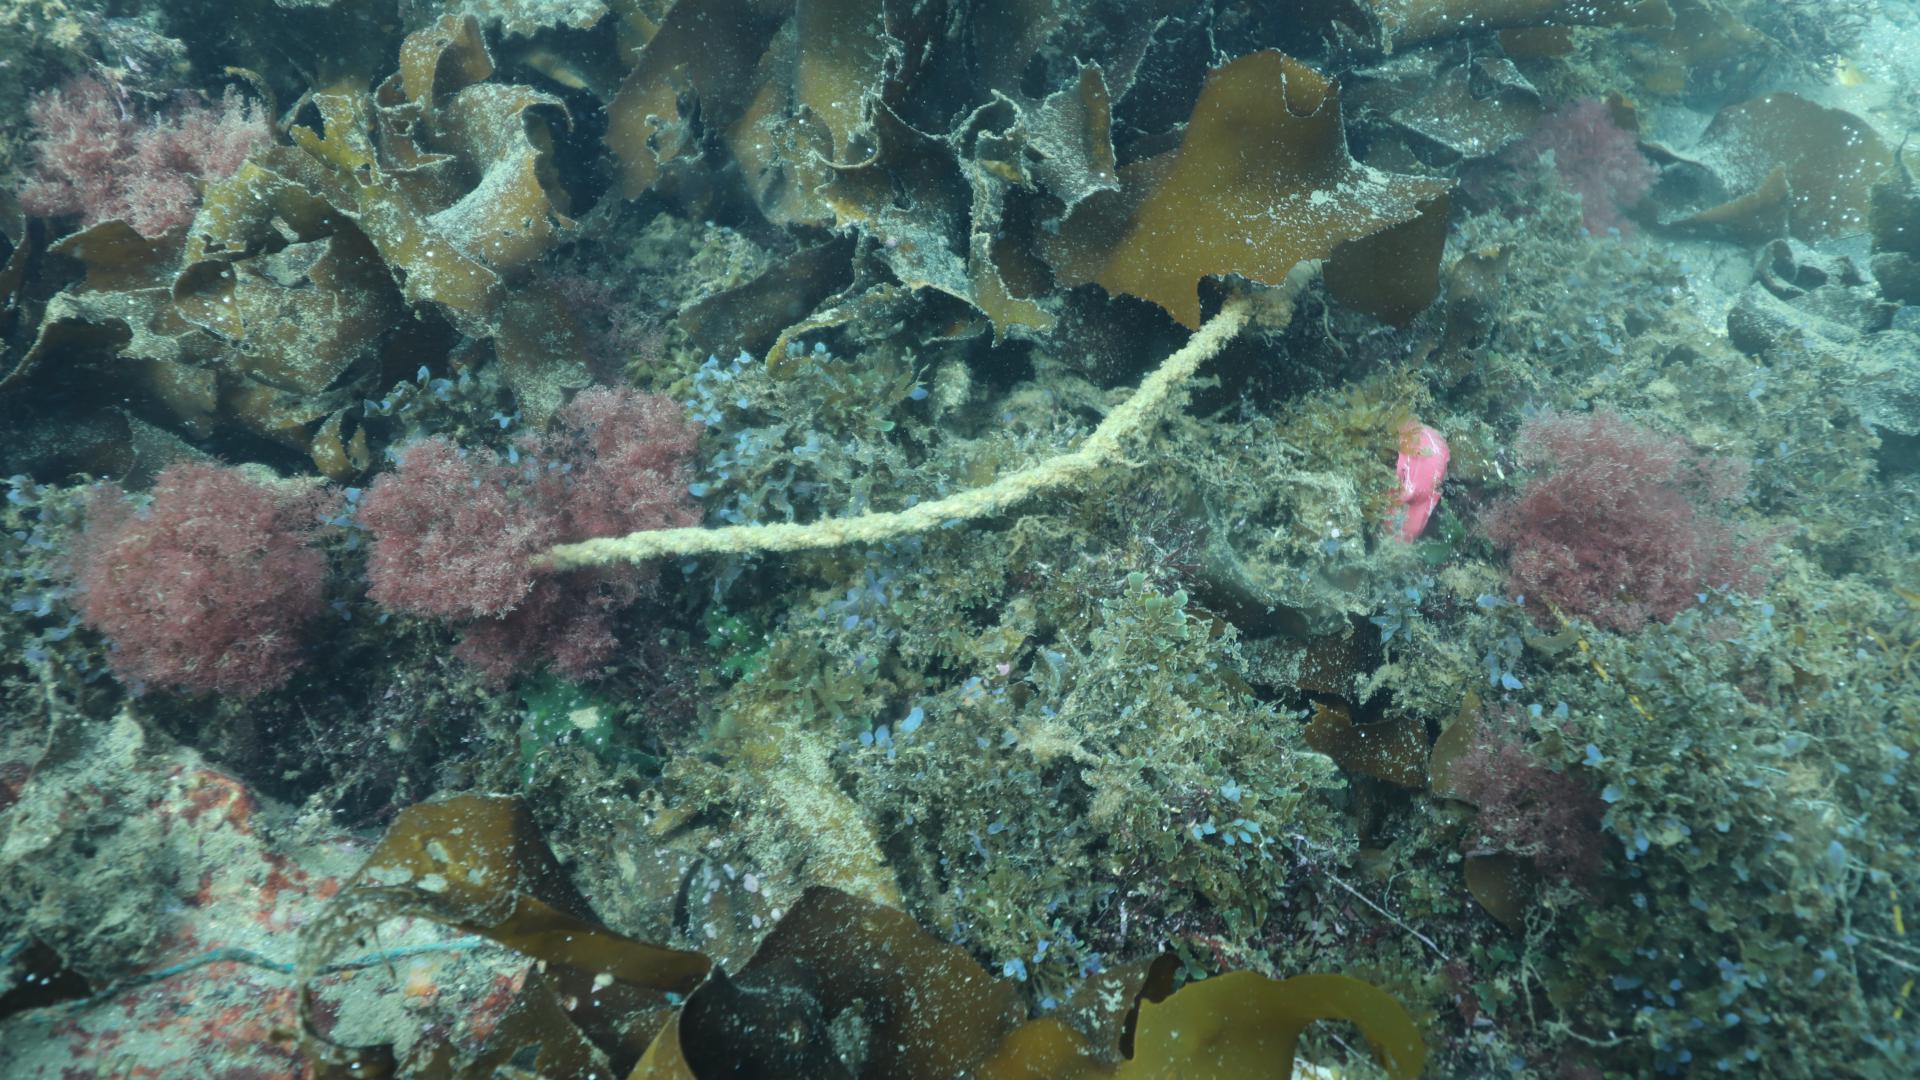rope: (531, 257, 1317, 572)
